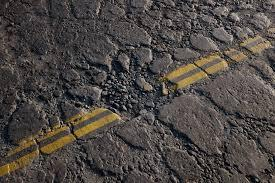alligator-crack: (150, 93, 275, 183), (110, 0, 275, 67), (0, 61, 105, 135), (31, 136, 150, 183)
pothole: (103, 66, 179, 119)
